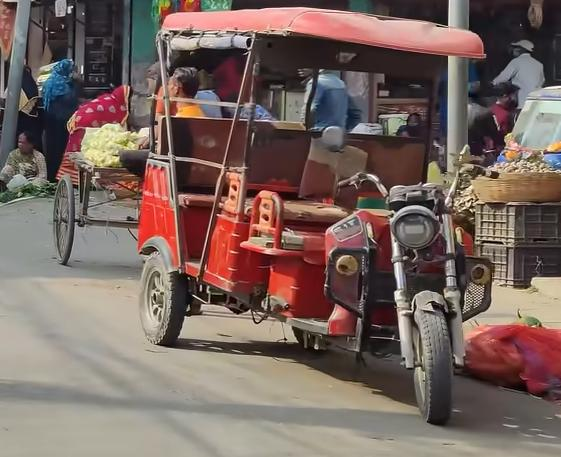e-rickshaw: (132, 0, 487, 431)
